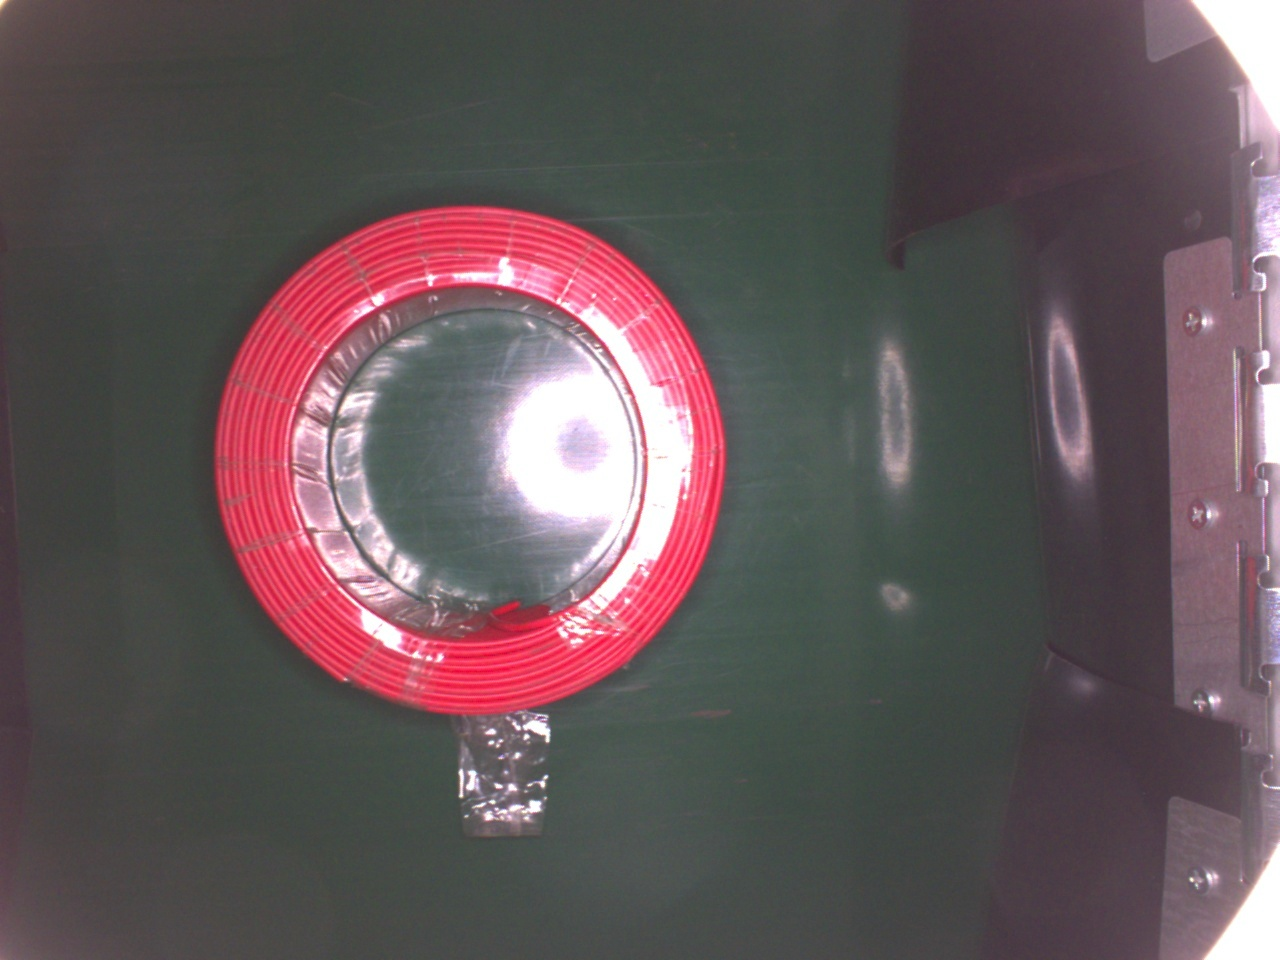red: (211, 202, 727, 723)
